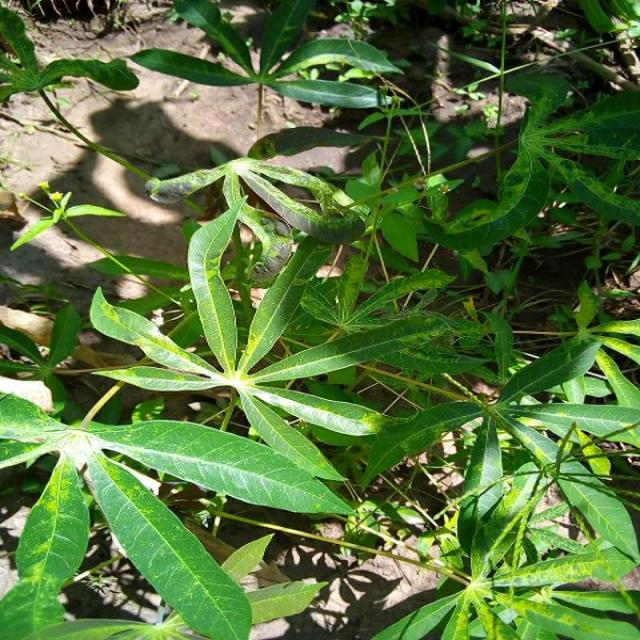cassava leaf: (85, 448, 252, 639)
